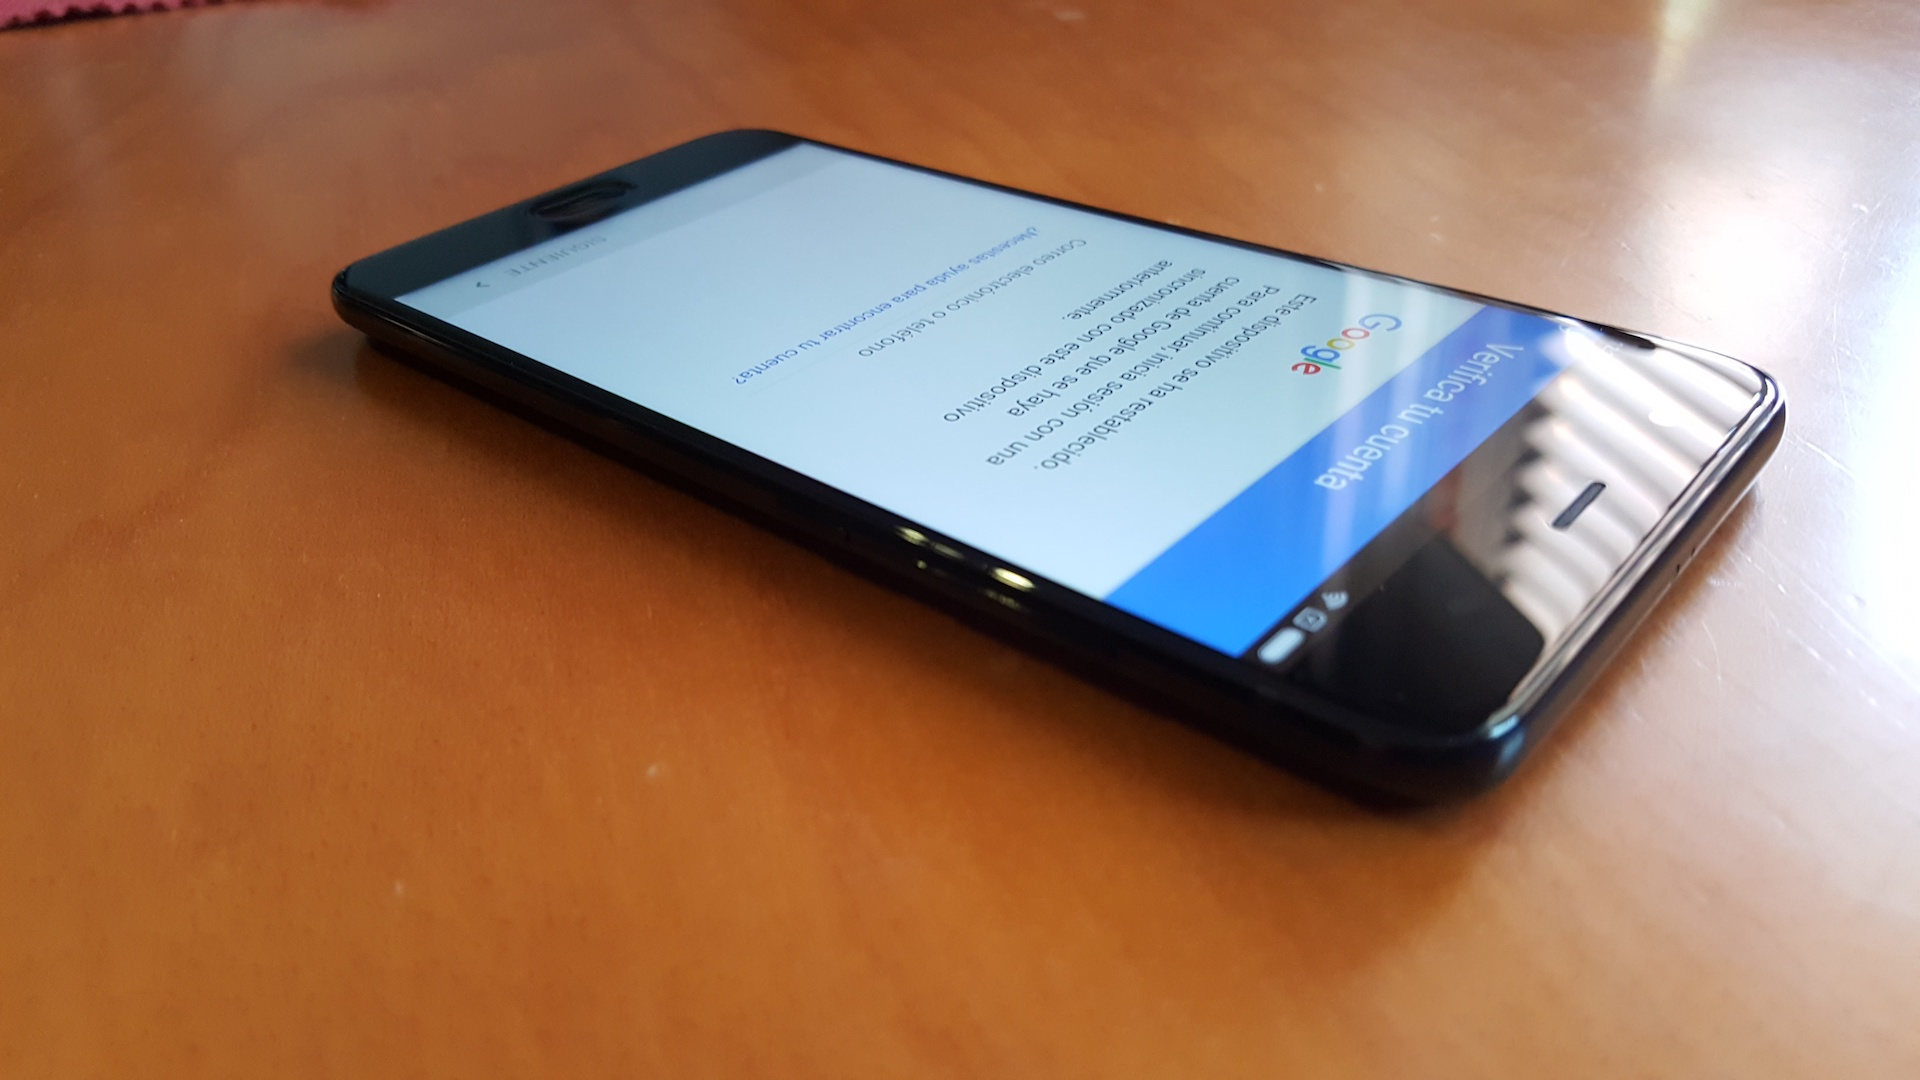smartphone: (328, 125, 1789, 827)
